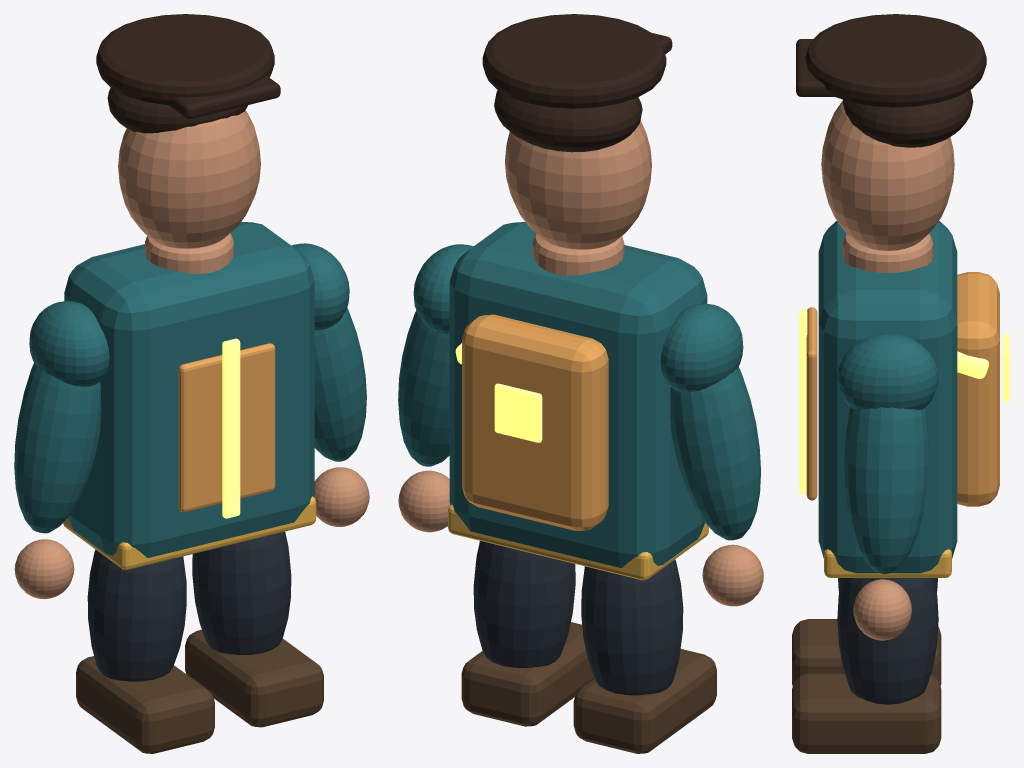
Rendered from MarceloHero.fbx.
The picture shows the model from 3 angles, left to right: view 1: azimuth 30°, elevation 25°; view 2: azimuth 150°, elevation 25°; view 3: azimuth 270°, elevation 25°; orthographic projection. The views are drawn at different scales.
Visible parts, largest first — view 1: Marcelo Body, Marcelo Head, Marcelo Cap, Marcelo Shirt, Marcelo Arm Left, Marcelo Leg Left, Marcelo Leg Right, Marcelo Boot Left, Marcelo Boot Right, Marcelo Arm Right, Marcelo Shoulder Left, Marcelo Coat Trim (+7 smaller); view 2: Marcelo Body, Marcelo Backpack, Marcelo Cap, Marcelo Head, Marcelo Leg Left, Marcelo Arm Left, Marcelo Leg Right, Marcelo Boot Left, Marcelo Boot Right, Marcelo Arm Right, Marcelo Hair, Marcelo Shoulder Left (+6 smaller); view 3: Marcelo Body, Marcelo Cap, Marcelo Head, Marcelo Arm Right, Marcelo Boot Right, Marcelo Backpack, Marcelo Leg Right, Marcelo Shoulder Right, Marcelo Hair, Marcelo Boot Left, Marcelo Hand Right, Marcelo Neck (+6 smaller).
Boxes of the visible parts, <box> form: Marcelo Body: <box>64,221,314,557</box>; Marcelo Head: <box>118,110,260,248</box>; Marcelo Cap: <box>96,14,274,104</box>; Marcelo Shirt: <box>178,343,275,512</box>; Marcelo Arm Left: <box>14,363,101,533</box>; Marcelo Leg Left: <box>87,549,186,681</box>; Marcelo Leg Right: <box>192,531,291,655</box>; Marcelo Boot Left: <box>76,656,214,753</box>; Marcelo Boot Right: <box>185,629,323,727</box>; Marcelo Arm Right: <box>314,307,366,461</box>; Marcelo Shoulder Left: <box>29,301,109,386</box>; Marcelo Coat Trim: <box>222,338,240,518</box>; Marcelo Body: <box>449,222,707,567</box>; Marcelo Backpack: <box>462,314,608,530</box>; Marcelo Cap: <box>482,14,666,108</box>; Marcelo Head: <box>505,120,651,249</box>; Marcelo Leg Left: <box>581,559,683,695</box>; Marcelo Arm Left: <box>670,367,760,540</box>; Marcelo Leg Right: <box>473,541,575,667</box>; Marcelo Boot Left: <box>573,649,716,753</box>; Marcelo Boot Right: <box>461,622,594,726</box>; Marcelo Arm Right: <box>398,311,449,466</box>; Marcelo Hair: <box>494,90,642,152</box>; Marcelo Shoulder Left: <box>660,303,743,392</box>; Marcelo Body: <box>818,221,957,578</box>; Marcelo Cap: <box>805,14,986,107</box>; Marcelo Head: <box>821,100,954,250</box>; Marcelo Arm Right: <box>844,407,928,574</box>; Marcelo Boot Right: <box>792,673,941,753</box>; Marcelo Backpack: <box>957,272,999,506</box>; Marcelo Leg Right: <box>837,578,938,704</box>; Marcelo Shoulder Right: <box>837,333,938,409</box>; Marcelo Hair: <box>842,90,973,147</box>; Marcelo Boot Left: <box>792,619,941,685</box>; Marcelo Hand Right: <box>853,579,911,640</box>; Marcelo Neck: <box>842,233,933,273</box>.
Size of the model in its own units: 1.53 by 2.75 by 0.8175.
